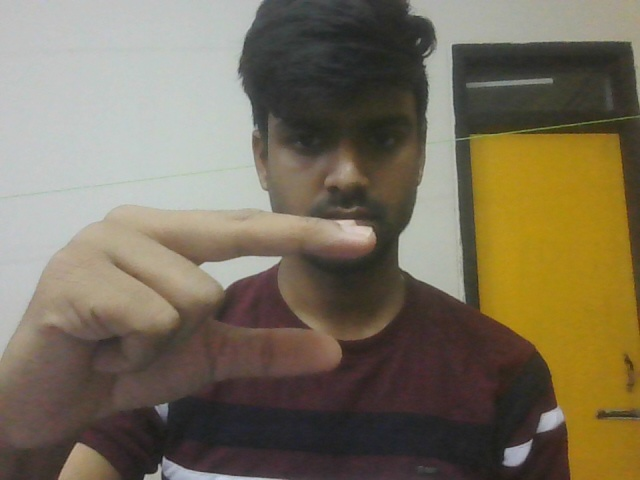no: (1, 197, 382, 458)
